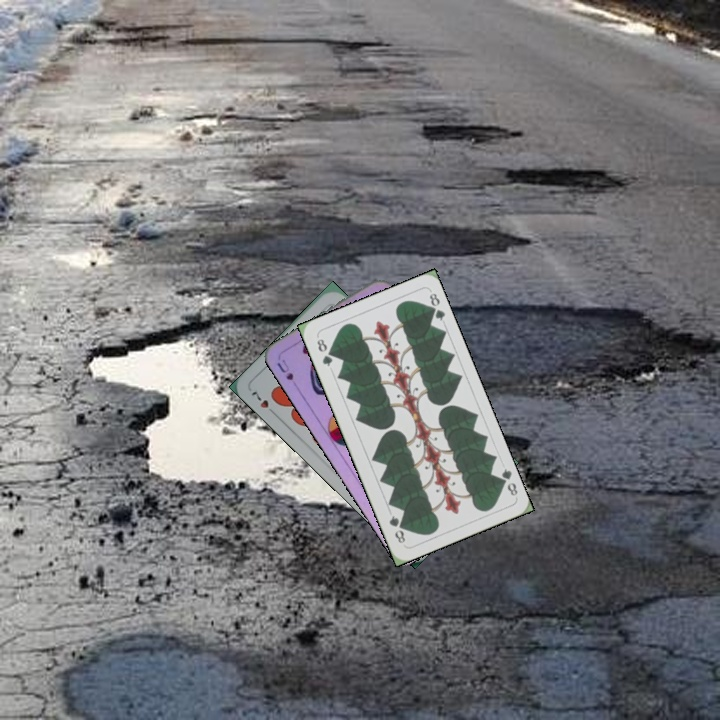G8: (494, 464, 520, 499), (313, 335, 335, 369)
H7: (247, 386, 279, 418)
SU: (273, 355, 296, 383)
